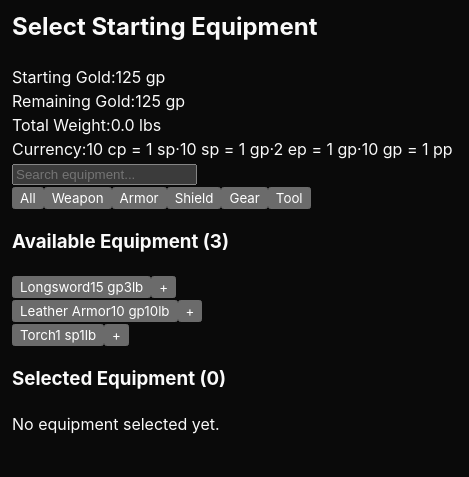
Scenario: EquipmentSelectionStep › add item / gold deduction › clicking + on Longsword decreases gold by 15
The width and height of the screenshot is (469, 477).
Expected: the text "Longsword" is shown, 20,279 -> 90,295
Click the button named "add longsword to inventory" at [164, 287], box 151,276 -> 176,298
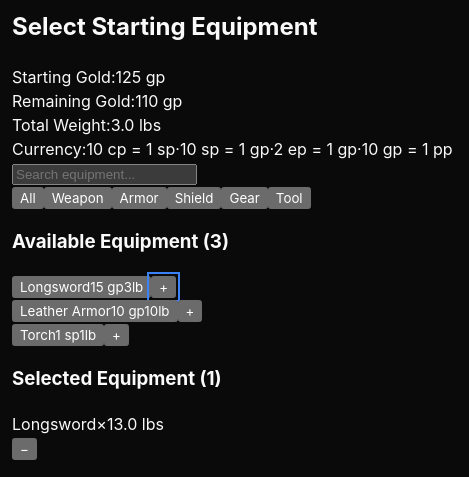
Now the text "110 gp" is shown, box 135,91 -> 182,111
